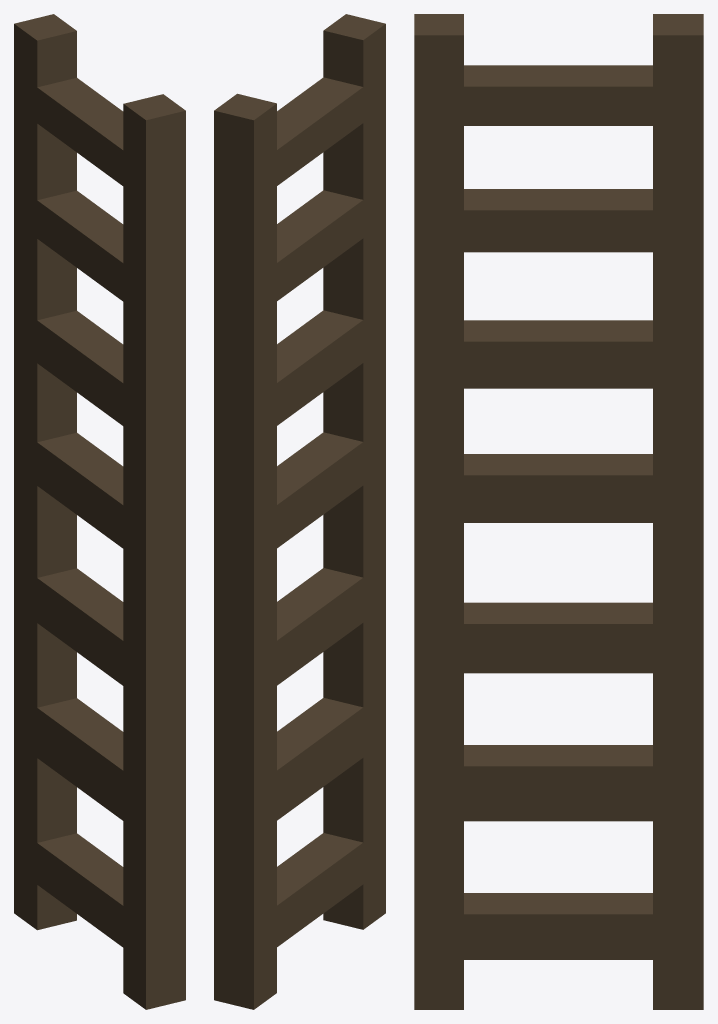
Rendered from Ladder05.fbx.
3 renders of one model, left to right at view 1: azimuth 30°, elevation 25°; view 2: azimuth 150°, elevation 25°; view 3: azimuth 270°, elevation 25°, orthographic. The views are drawn at different scales.
Visible parts, largest first — view 1: Ladder05; view 2: Ladder05; view 3: Ladder05.
Part boxes in pixels (x1,y1,x2,y2): Ladder05: [14, 14, 185, 1009]; Ladder05: [214, 14, 385, 1009]; Ladder05: [414, 14, 703, 1009].
Size of the model in its own units: 20.83 by 445 by 120.
